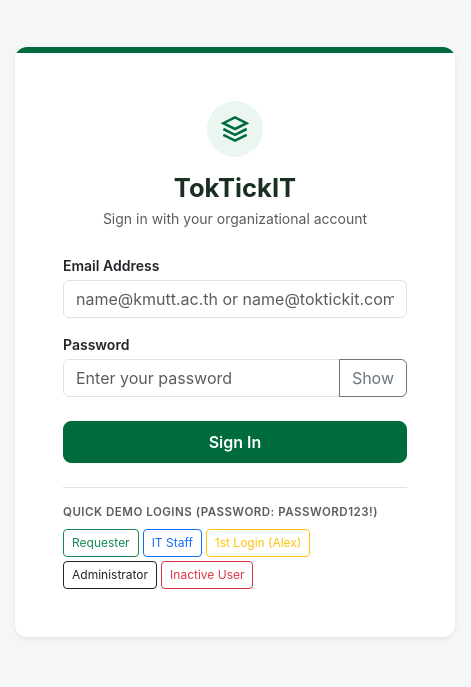
Test case: Lab 03 - Login Component Tests › validates empty inputs and shows error message
Click the button "Sign In": (235, 442) [63,421,407,463]
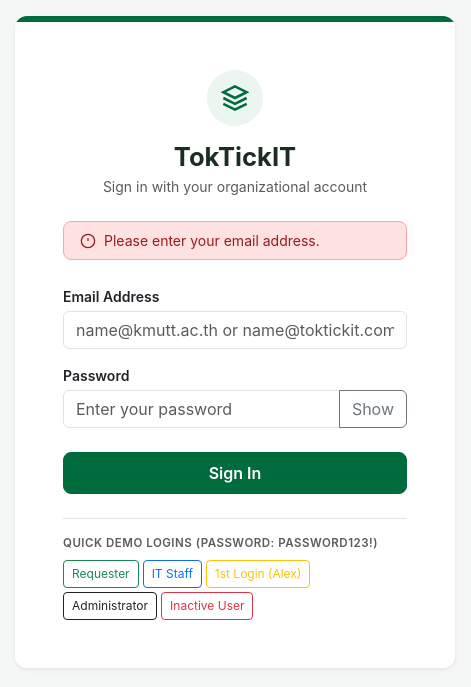
Now the text "Please enter your email address." is shown, box [104,230,320,251]
